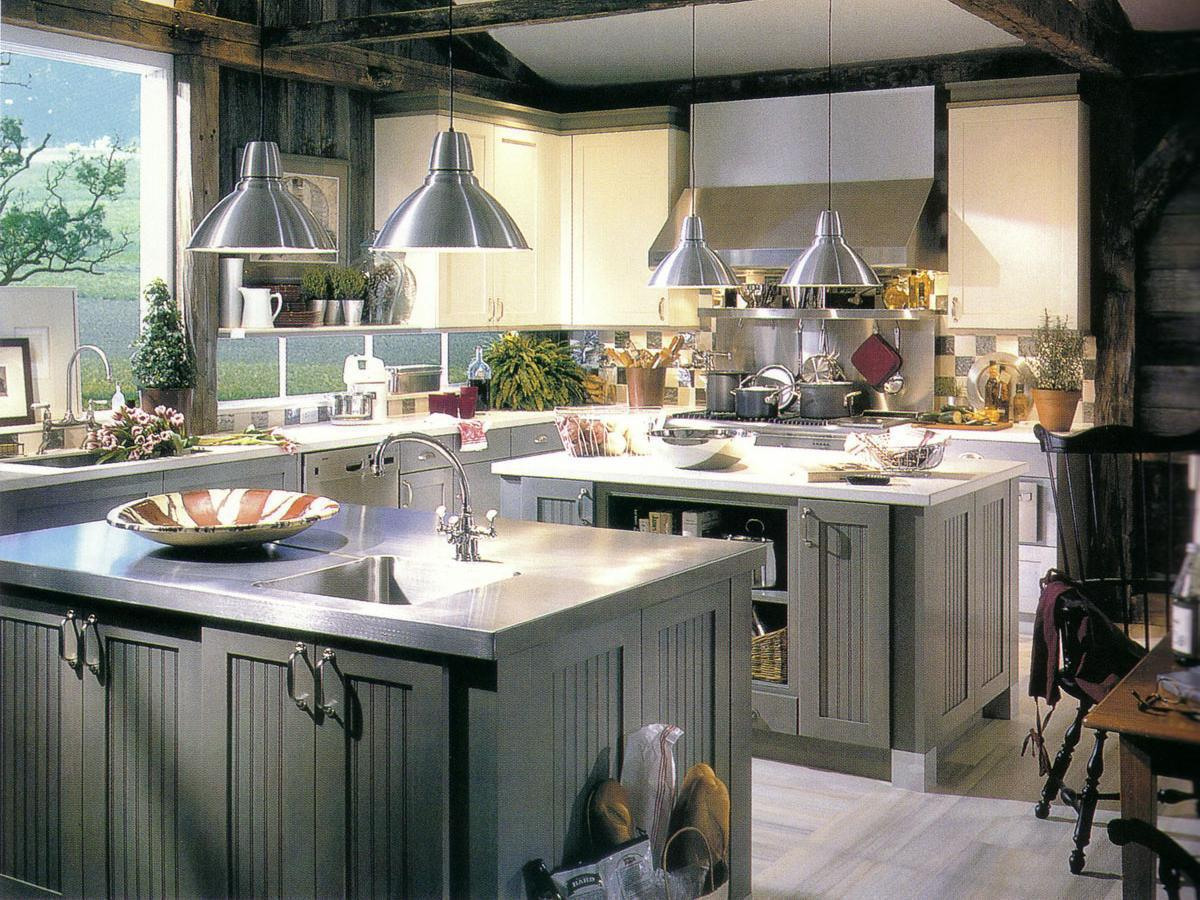Lavaplatos: (299, 444, 524, 632), (31, 346, 220, 475)
